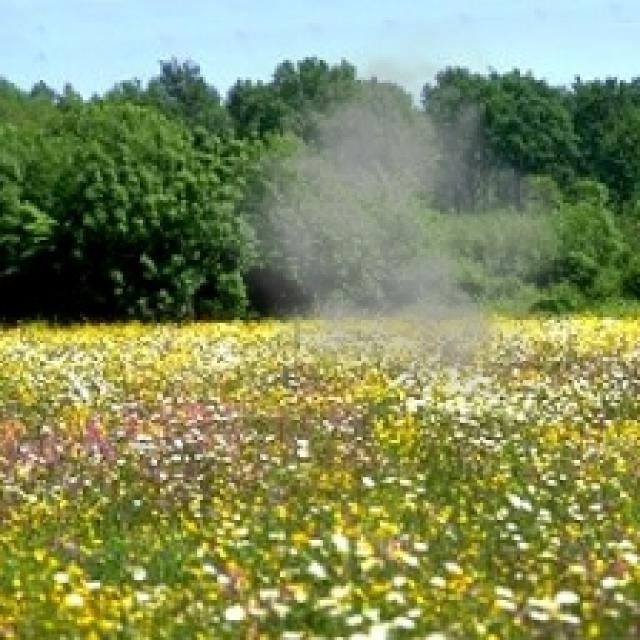smoke: (200, 12, 589, 397)
